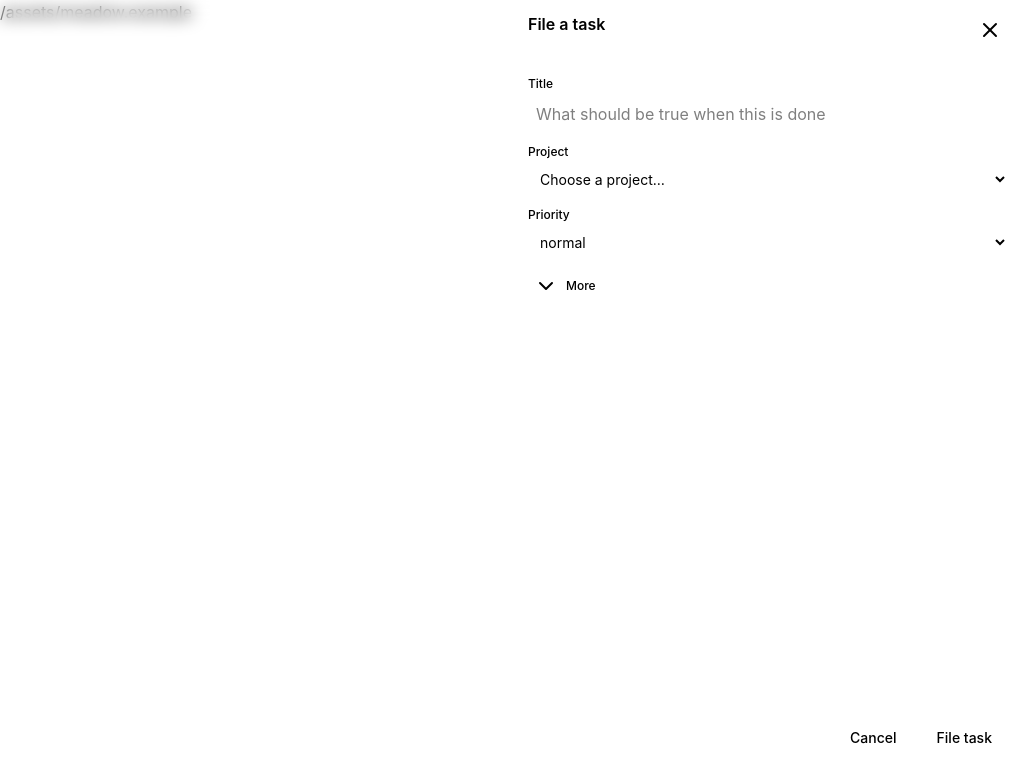
Test: TaskComposer › refuses to file without a title
The image size is (1024, 768).
Select "root-os (ro-)" in the dropdown labelled "Project" at (768, 180), box [528,164,1008,195]
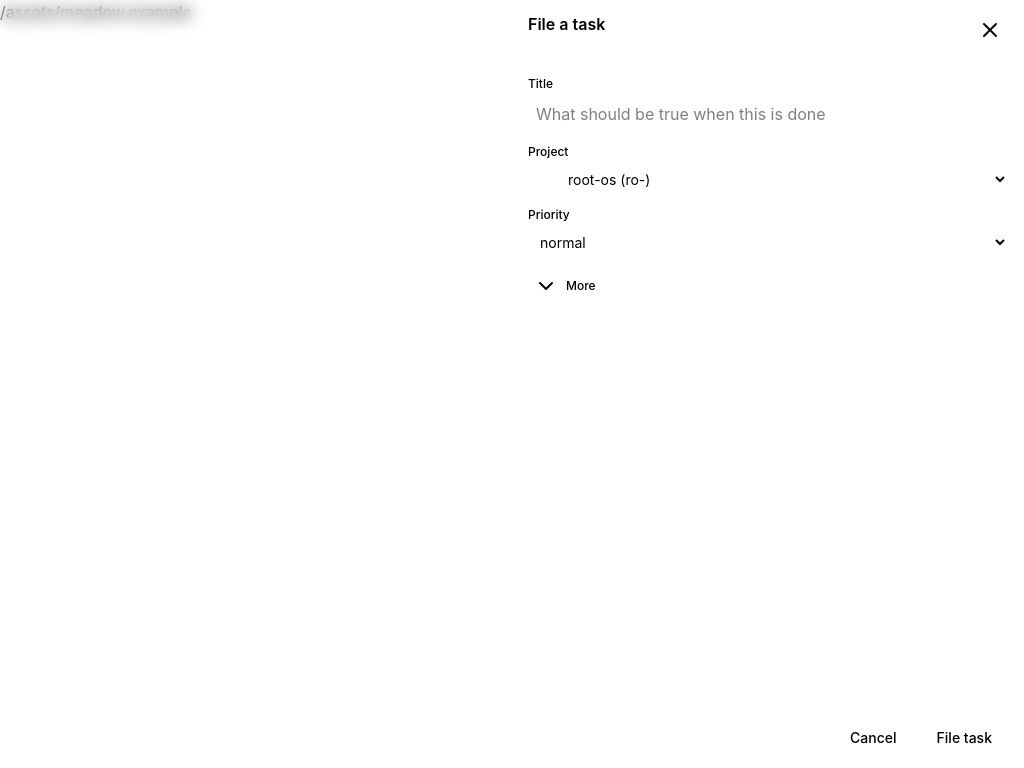
Click the button "File task" at (964, 738), box [921,720,1008,756]
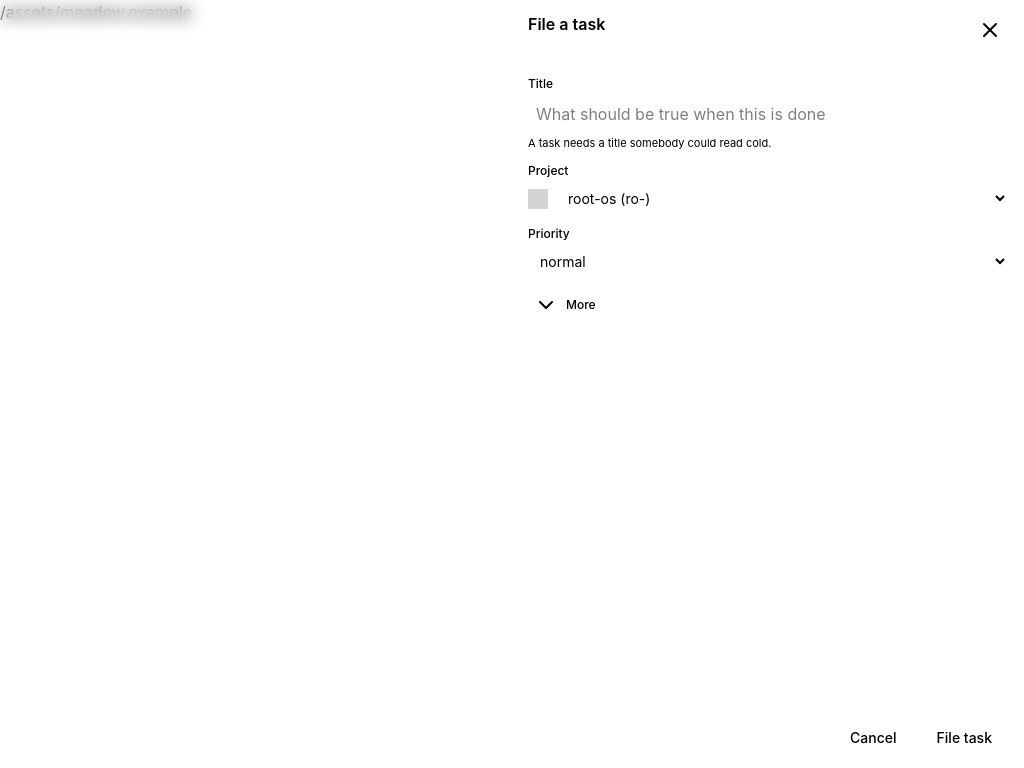
Expected: the text "A task needs a title somebody could read cold." is shown, [528,136,771,150]
